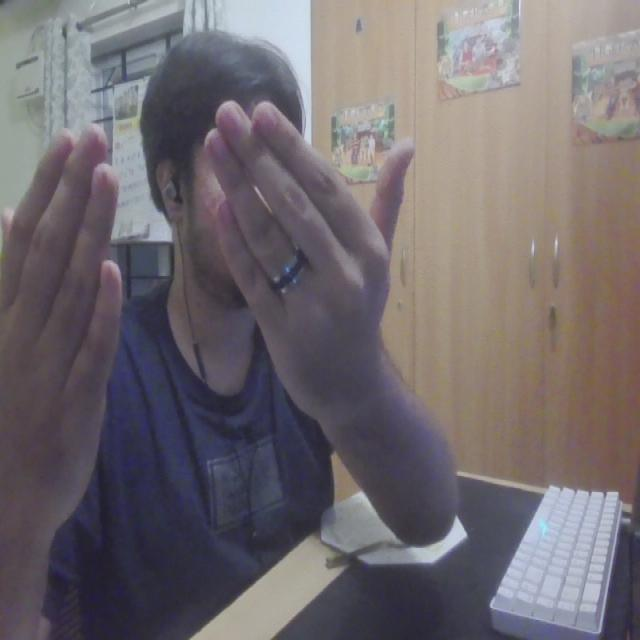thankyou: (2, 88, 420, 542)
